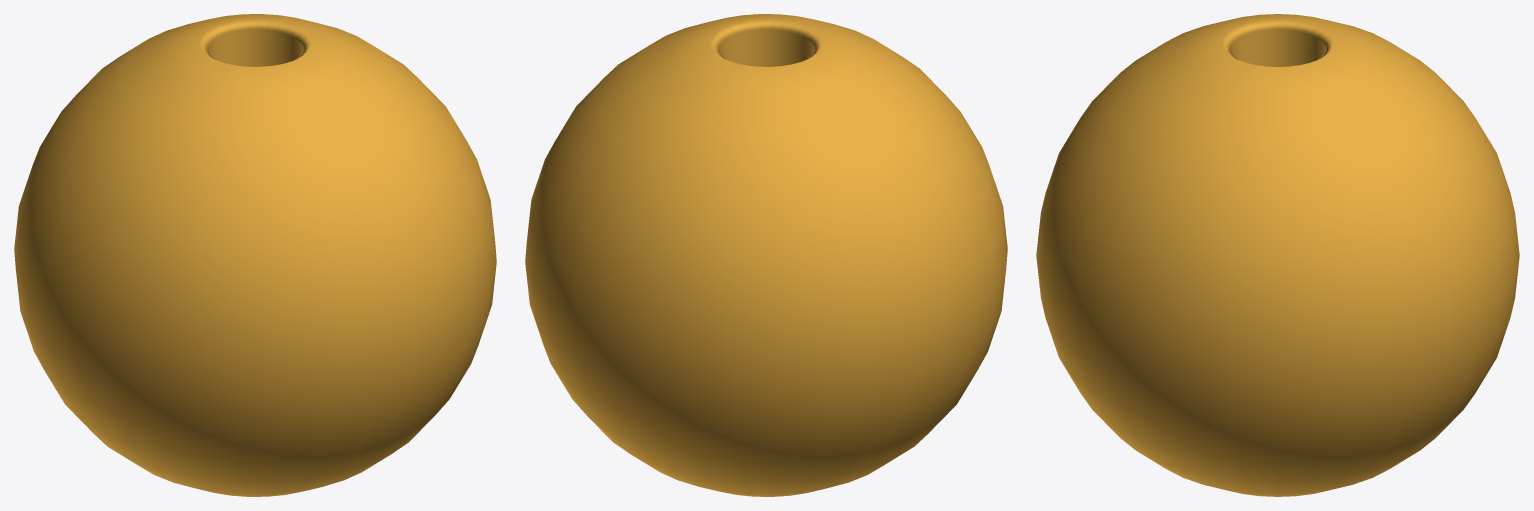
Rendered from SM_Checkpoint_Sphere_01.fbx.
3 views of the same model, side by side, from view 1: azimuth 30°, elevation 25°; view 2: azimuth 150°, elevation 25°; view 3: azimuth 270°, elevation 25° (orthographic).
Visible parts, largest first — view 1: SM_Checkpoint_Sphere_01; view 2: SM_Checkpoint_Sphere_01; view 3: SM_Checkpoint_Sphere_01.
Boxes of the visible parts, <box> form: SM_Checkpoint_Sphere_01: <box>14,14,496,496</box>; SM_Checkpoint_Sphere_01: <box>525,14,1007,496</box>; SM_Checkpoint_Sphere_01: <box>1036,14,1519,496</box>.
Bounding box in the file's own units: 147 × 142 × 147.
